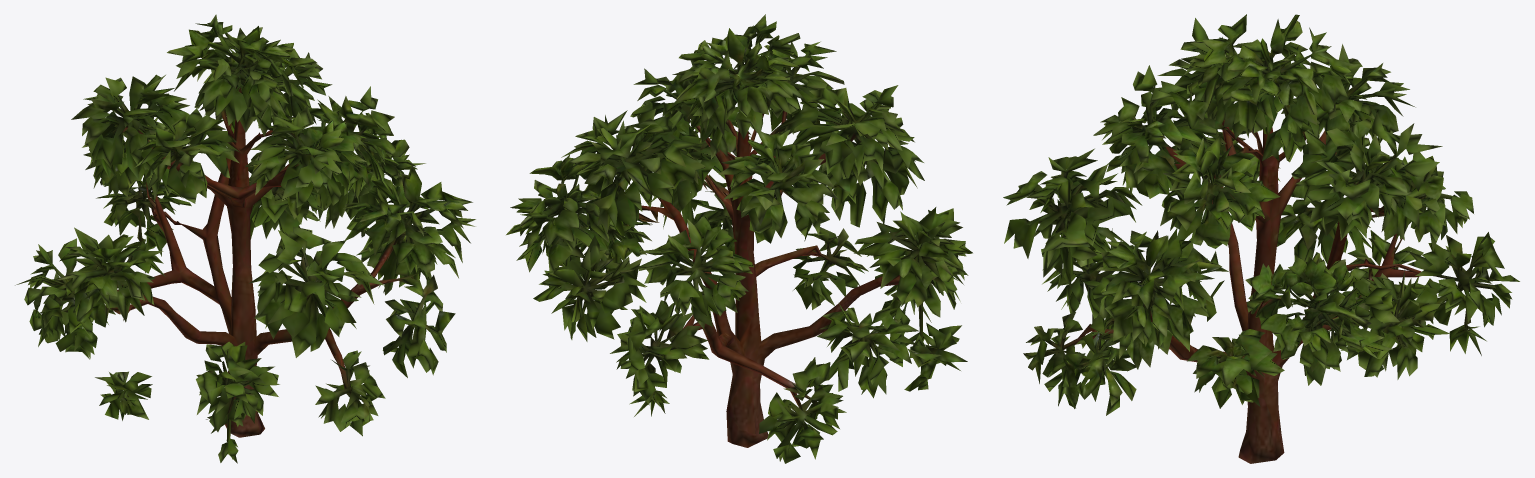
The model's file is coastal_shade_tree.glb.
3 renders of one model, left to right at view 1: azimuth 30°, elevation 25°; view 2: azimuth 150°, elevation 25°; view 3: azimuth 270°, elevation 25°, orthographic. The views are drawn at different scales.
Parts seen in each view (by area): view 1: tripo_node_271a0e25-9704-41d4-9a31-14bcbe82507d; view 2: tripo_node_271a0e25-9704-41d4-9a31-14bcbe82507d; view 3: tripo_node_271a0e25-9704-41d4-9a31-14bcbe82507d.
Boxes of the visible parts, box(x1,y1,x2,y2) form: tripo_node_271a0e25-9704-41d4-9a31-14bcbe82507d: box(15, 14, 475, 463); tripo_node_271a0e25-9704-41d4-9a31-14bcbe82507d: box(506, 14, 972, 463); tripo_node_271a0e25-9704-41d4-9a31-14bcbe82507d: box(1003, 14, 1519, 463).
Size of the model in its own units: 0.9086 by 0.8793 by 0.9604.
Materials: 1 (1 with a texture image).
